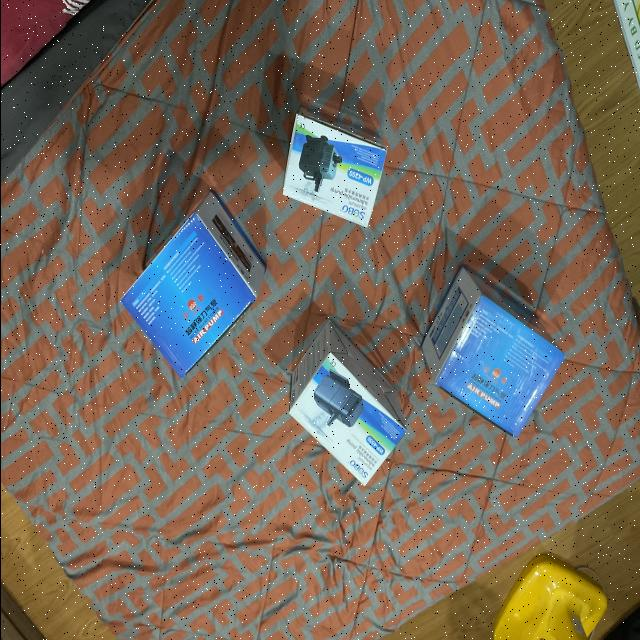SOBO_WP_4200: (288, 312, 418, 491), (270, 98, 397, 232)
YAMANO_LPP_20: (110, 186, 276, 380), (422, 257, 568, 436)
